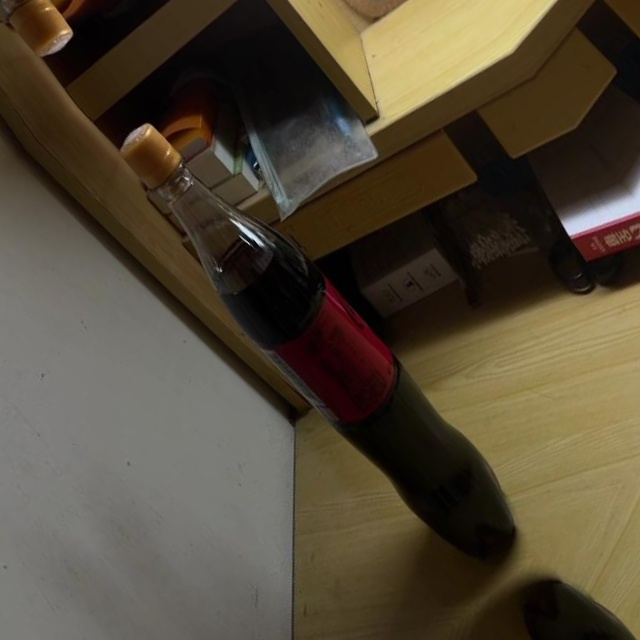Coca-Cola: (97, 90, 540, 589)
